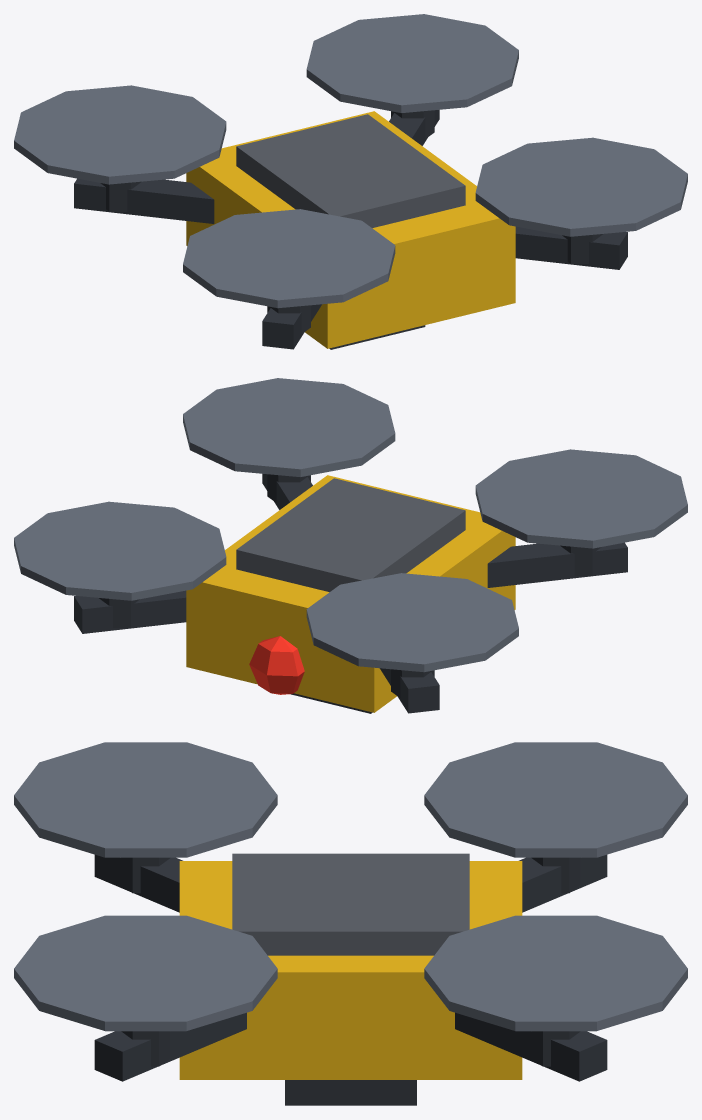
File: enemy_drone.glb
The picture shows the model from 3 angles, top to bottom: view 1: azimuth 30°, elevation 25°; view 2: azimuth 150°, elevation 25°; view 3: azimuth 270°, elevation 25°; orthographic projection. The views are drawn at different scales.
Visible parts, largest first — view 1: enemy_drone; view 2: enemy_drone; view 3: enemy_drone.
Part boxes in pixels (box(x1,y1,x2,y2)): enemy_drone: box(14, 14, 687, 349); enemy_drone: box(14, 378, 687, 713); enemy_drone: box(14, 742, 687, 1105).
Bounding box in the file's own units: 0.5013 × 0.164 × 0.5111.
Materials: 1 (1 with a texture image).
